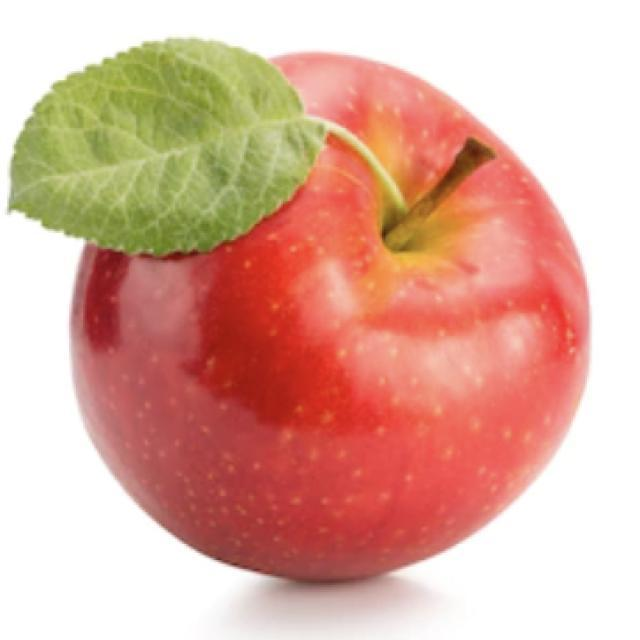Apple: (65, 46, 592, 584)
